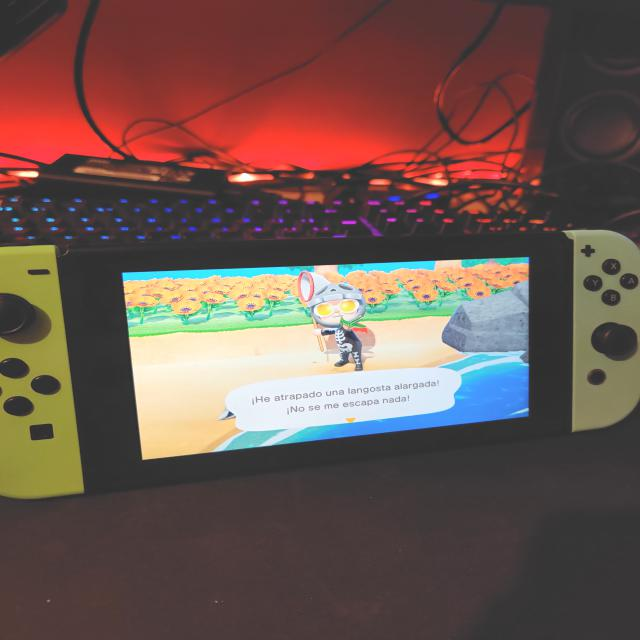text_bubble: (227, 367, 466, 434)
